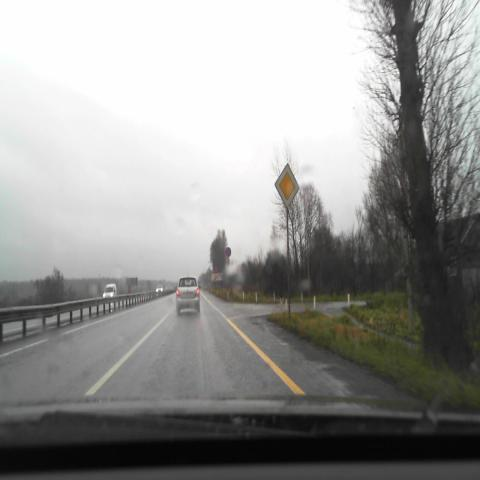2_1: (274, 163, 300, 208)
